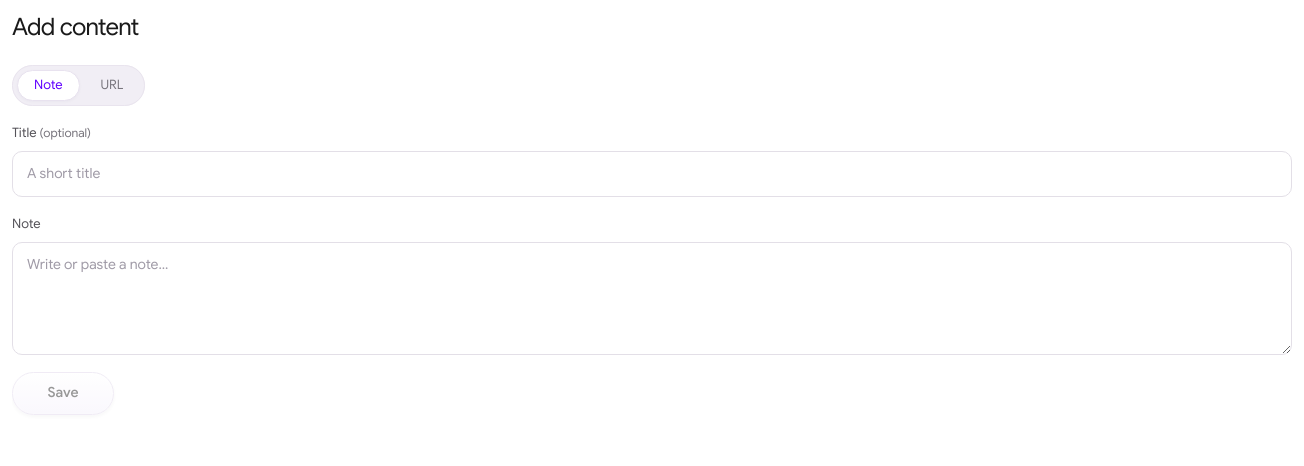
content ingestion › preserves the note and shows an actionable error when saving fails
In the text box labelled "Note": {"x": 652, "y": 299} x1=12 y1=242 x2=1292 y2=355, type "Do not lose this thought."
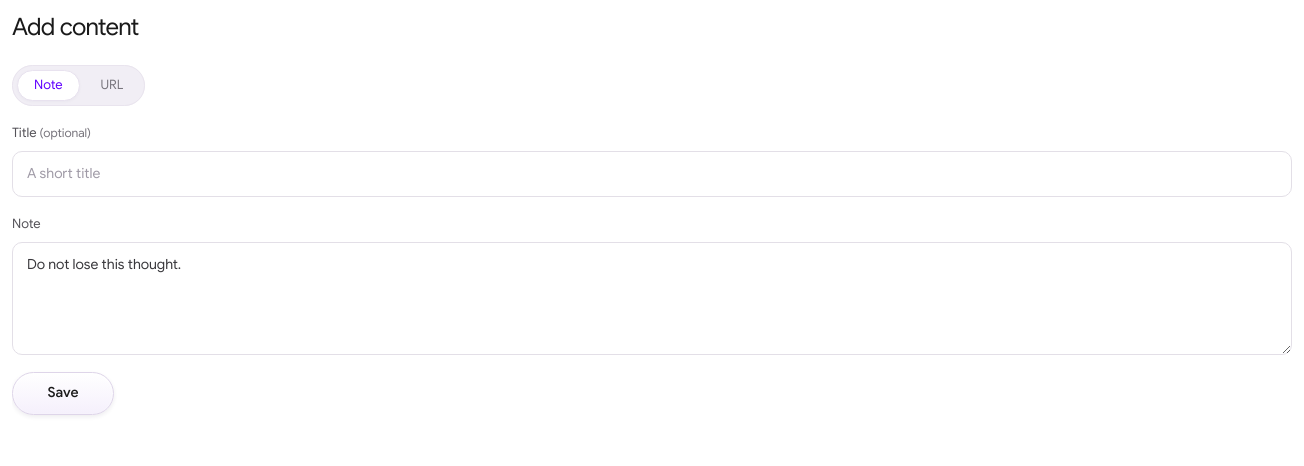
Click the button "Save": {"x": 63, "y": 394} x1=12 y1=372 x2=114 y2=415
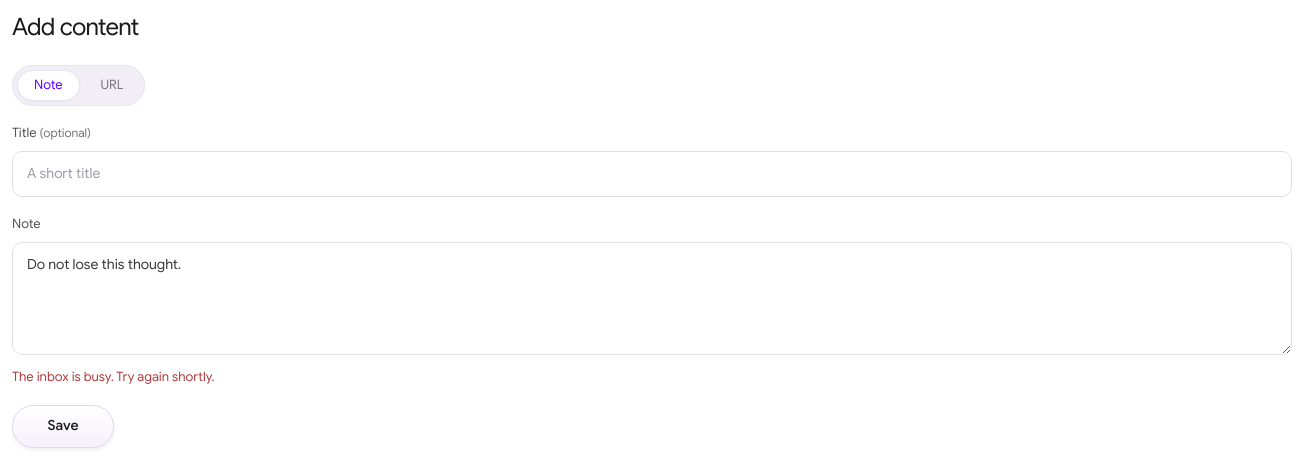
Result: the button "Save" is enabled at x1=12 y1=405 x2=114 y2=448
Result: the message shows "The inbox is busy." at x1=12 y1=368 x2=214 y2=385
